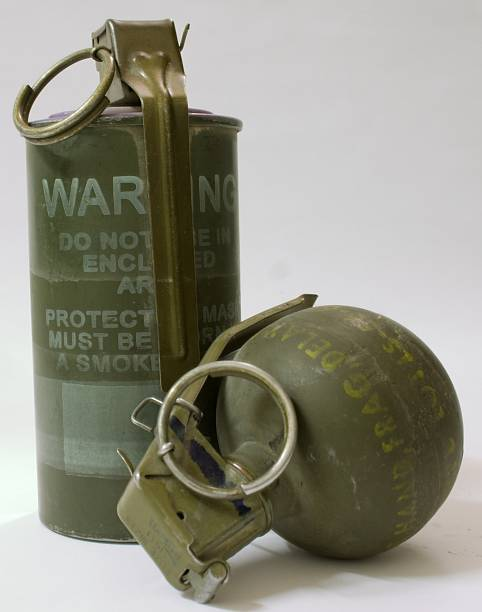e1: (122, 290, 466, 599)
